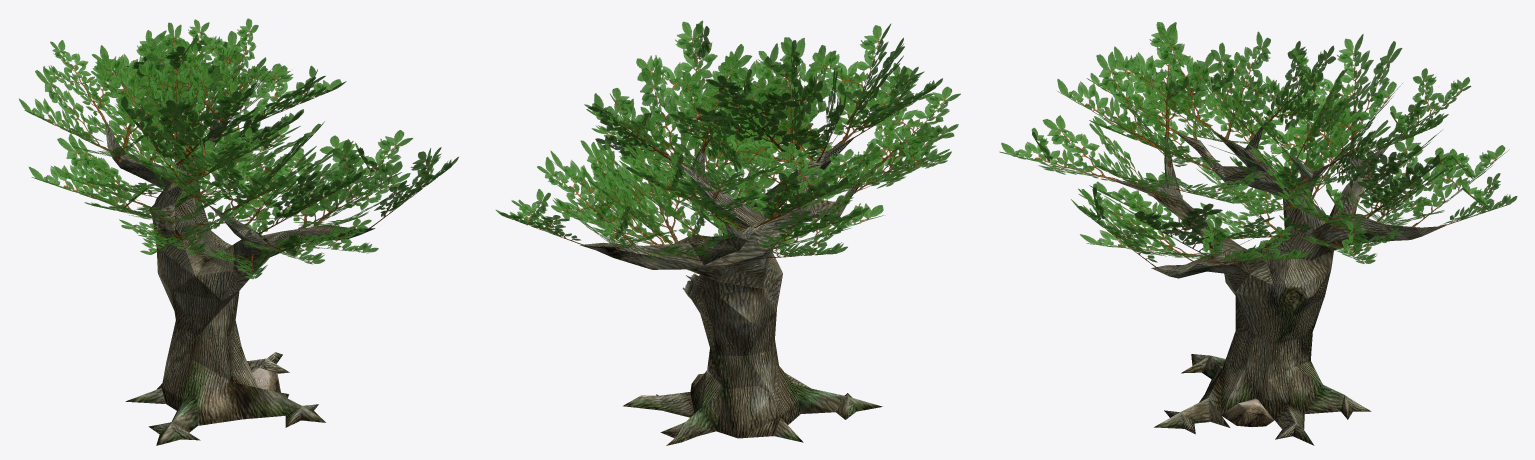
The model's file is oak.obj.
The picture shows the model from 3 angles, left to right: view 1: azimuth 30°, elevation 25°; view 2: azimuth 150°, elevation 25°; view 3: azimuth 270°, elevation 25°; orthographic projection. The views are drawn at different scales.
Size of the model in its own units: 212 by 207 by 282.
2 materials, 2 textured.
